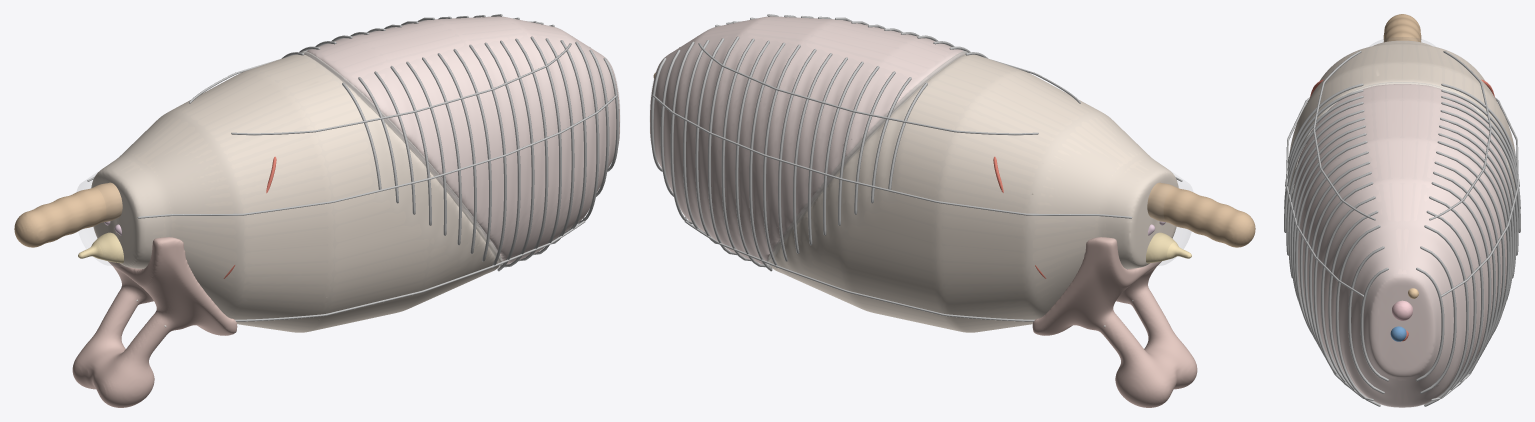
Rendered from escena.glb.
The picture shows the model from 3 angles, left to right: view 1: azimuth 30°, elevation 25°; view 2: azimuth 150°, elevation 25°; view 3: azimuth 270°, elevation 25°; orthographic projection.
Visible parts, largest first — view 1: ABD_CAVIDAD_ABDOMINAL, TOR_CAVIDAD_TORACICA, REF_ARCOS_COSTALES, ING_REGION_INGUINAL, PEL_RECTO, REF_LINEAS_TOPOGRAFICAS, TOR_DIAFRAGMA, PEL_VEJIGA; view 2: ABD_CAVIDAD_ABDOMINAL, TOR_CAVIDAD_TORACICA, REF_ARCOS_COSTALES, ING_REGION_INGUINAL, PEL_RECTO, REF_LINEAS_TOPOGRAFICAS, TOR_DIAFRAGMA, PEL_VEJIGA; view 3: TOR_CAVIDAD_TORACICA, REF_ARCOS_COSTALES, ABD_CAVIDAD_ABDOMINAL, REF_LINEAS_TOPOGRAFICAS, PEL_RECTO, TOR_DIAFRAGMA, TOR_TRAQUEA.
Boxes of the visible parts, bbox=[...] form: ABD_CAVIDAD_ABDOMINAL: bbox=[91, 54, 501, 332]; TOR_CAVIDAD_TORACICA: bbox=[304, 16, 619, 264]; REF_ARCOS_COSTALES: bbox=[281, 14, 619, 271]; ING_REGION_INGUINAL: bbox=[72, 237, 237, 407]; PEL_RECTO: bbox=[14, 182, 122, 247]; REF_LINEAS_TOPOGRAFICAS: bbox=[87, 21, 617, 321]; TOR_DIAFRAGMA: bbox=[302, 51, 503, 268]; PEL_VEJIGA: bbox=[78, 232, 123, 263]; ABD_CAVIDAD_ABDOMINAL: bbox=[768, 54, 1178, 332]; TOR_CAVIDAD_TORACICA: bbox=[650, 16, 965, 264]; REF_ARCOS_COSTALES: bbox=[650, 14, 988, 271]; ING_REGION_INGUINAL: bbox=[1032, 237, 1197, 407]; PEL_RECTO: bbox=[1147, 182, 1255, 247]; REF_LINEAS_TOPOGRAFICAS: bbox=[652, 21, 1182, 321]; TOR_DIAFRAGMA: bbox=[766, 51, 967, 268]; PEL_VEJIGA: bbox=[1146, 232, 1191, 263]; TOR_CAVIDAD_TORACICA: bbox=[1293, 84, 1511, 407]; REF_ARCOS_COSTALES: bbox=[1284, 83, 1520, 406]; ABD_CAVIDAD_ABDOMINAL: bbox=[1289, 40, 1515, 299]; REF_LINEAS_TOPOGRAFICAS: bbox=[1286, 51, 1518, 400]; PEL_RECTO: bbox=[1383, 14, 1421, 42]; TOR_DIAFRAGMA: bbox=[1292, 82, 1512, 290]; TOR_TRAQUEA: bbox=[1392, 300, 1412, 320].
Size of the model in its own units: 1.85 by 0.8419 by 0.64.
